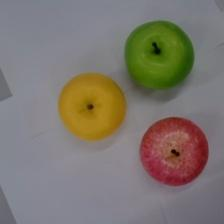green: (125, 21, 194, 91)
red: (139, 117, 209, 186)
yellow: (58, 73, 126, 141)
